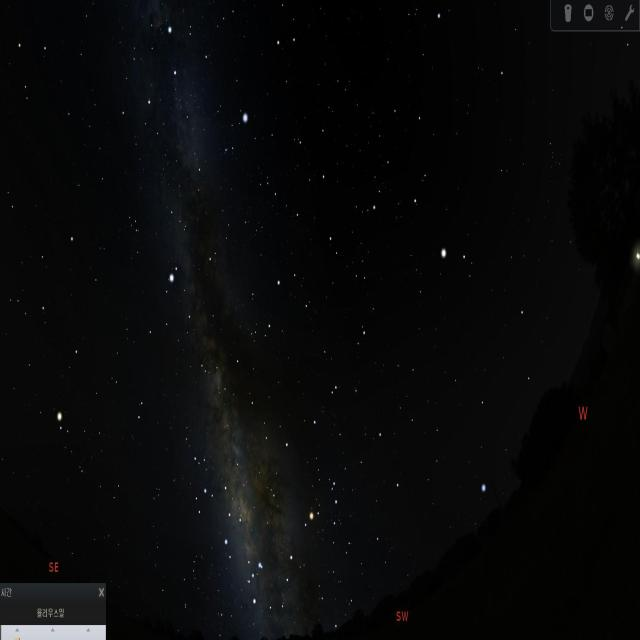aquila: (142, 236, 228, 392)
bootes: (379, 91, 476, 297)
cygnus: (143, 23, 215, 195)
lyra: (226, 116, 255, 156)
sagittarius: (182, 451, 245, 556)
scorpius: (245, 458, 344, 610)
